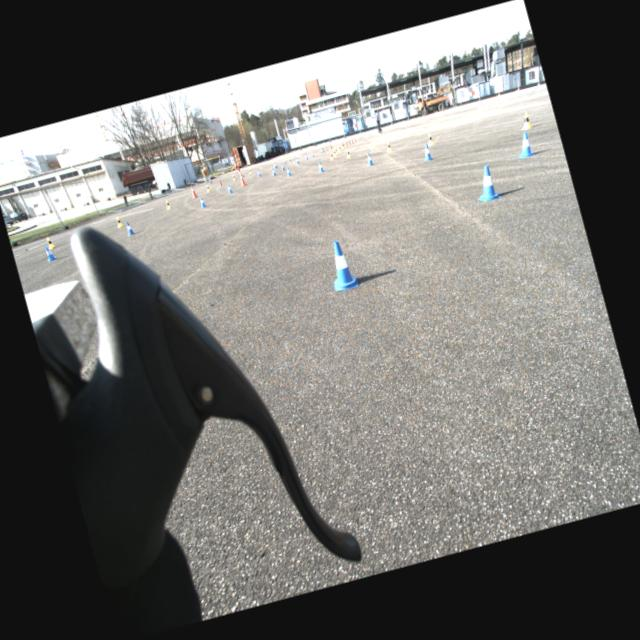blue_cone: (323, 238, 359, 292), (469, 162, 502, 204), (512, 130, 535, 160), (418, 142, 433, 162), (44, 244, 58, 262), (124, 220, 136, 236), (362, 150, 373, 166), (197, 195, 206, 207), (316, 160, 324, 172), (225, 182, 232, 194), (284, 166, 292, 176), (270, 167, 276, 176), (255, 168, 261, 177), (303, 152, 308, 160), (294, 156, 299, 163), (280, 162, 284, 170), (282, 158, 286, 164), (310, 150, 314, 156), (318, 148, 322, 154), (287, 155, 291, 161), (273, 162, 277, 168), (274, 162, 278, 168)
large_orange_cone: (188, 183, 196, 198), (237, 171, 245, 186), (236, 167, 242, 176)
orange_cone: (218, 179, 222, 186), (353, 137, 356, 143), (351, 138, 354, 144), (348, 139, 351, 145), (345, 140, 348, 146), (341, 140, 344, 146), (322, 146, 325, 152), (324, 146, 328, 150), (329, 144, 332, 149)
yellow_cone: (516, 110, 532, 130), (44, 234, 56, 250), (424, 131, 434, 146), (114, 214, 123, 228), (383, 140, 392, 152), (163, 198, 171, 209), (344, 148, 351, 158), (204, 183, 210, 192), (328, 151, 334, 160), (230, 173, 236, 180), (332, 148, 336, 156), (248, 168, 252, 174), (334, 147, 338, 153), (338, 145, 342, 151), (259, 164, 263, 168), (250, 168, 252, 174)
